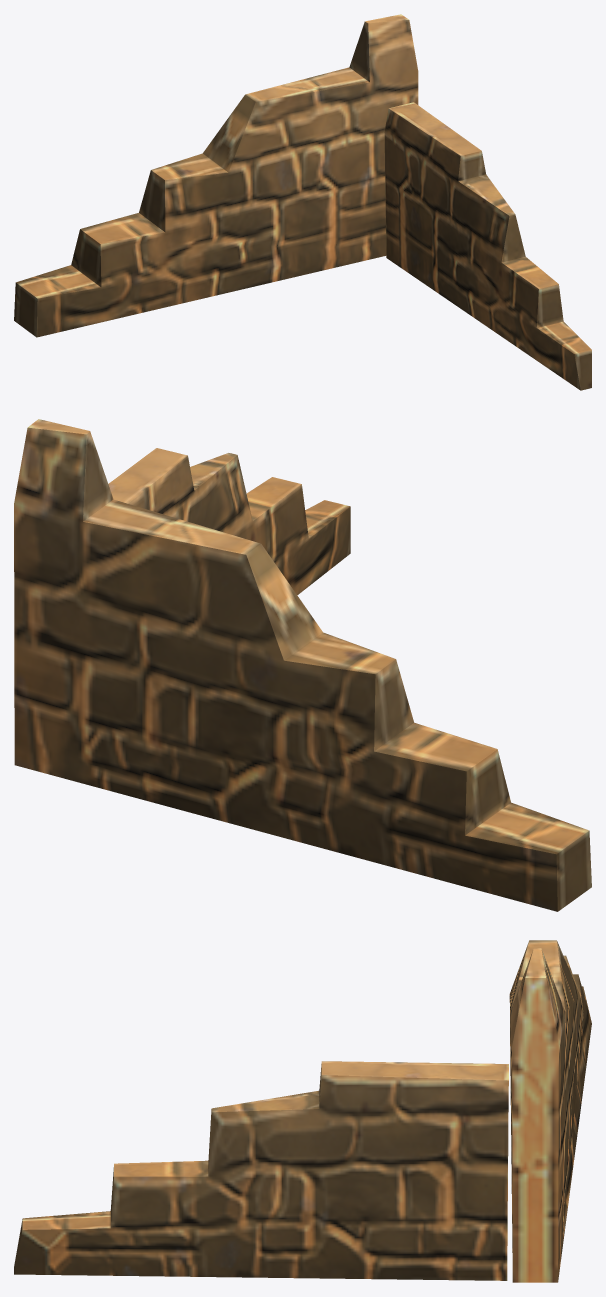
The model's file is Wall_corner_1.fbx.
The picture shows the model from 3 angles, top to bottom: view 1: azimuth 30°, elevation 25°; view 2: azimuth 150°, elevation 25°; view 3: azimuth 270°, elevation 25°; orthographic projection. The views are drawn at different scales.
Parts seen in each view (by area): view 1: remnants_10; view 2: remnants_10; view 3: remnants_10.
Part boxes in pixels (<box>): remnants_10: <box>14,14,591,390</box>; remnants_10: <box>14,419,591,911</box>; remnants_10: <box>14,940,591,1282</box>.
Bounding box in the file's own units: 4.58 × 2.66 × 4.54.
